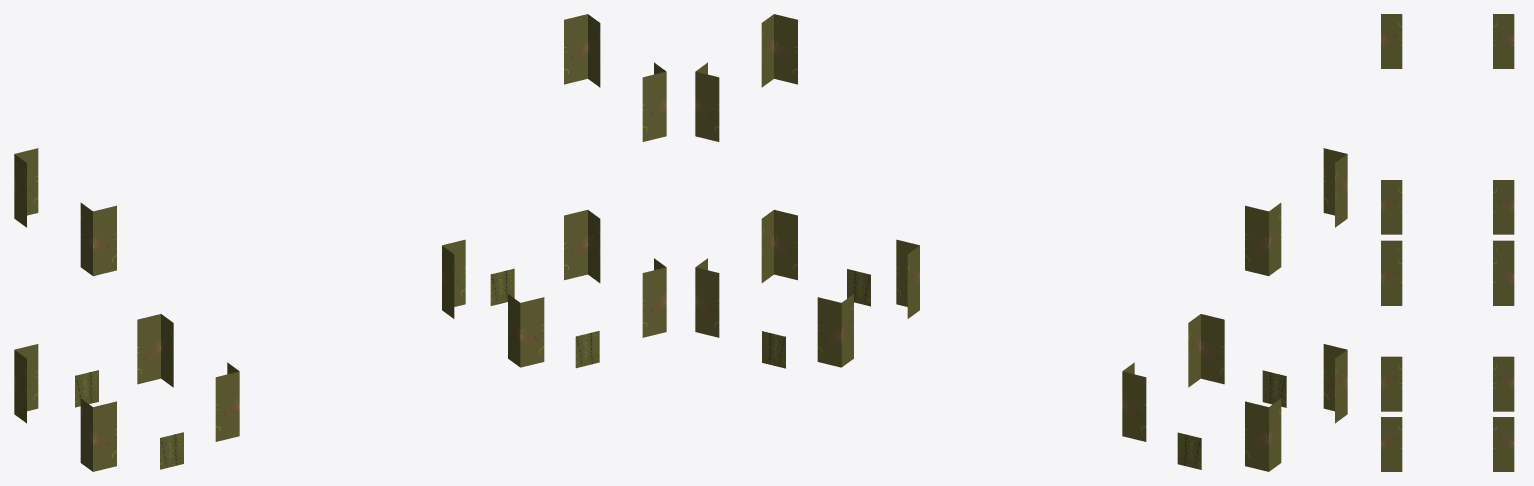
File: wall_gate_f.dae
The picture shows the model from 3 angles, left to right: view 1: azimuth 30°, elevation 25°; view 2: azimuth 150°, elevation 25°; view 3: azimuth 270°, elevation 25°; orthographic projection. The views are drawn at different scales.
Parts seen in each view (by area): view 1: wall_gate_f; view 2: wall_gate_f; view 3: wall_gate_f.
Boxes of the visible parts, x1,y1,x2,y2 form: wall_gate_f: (14,14,666,471); wall_gate_f: (695,14,1347,471); wall_gate_f: (1381,14,1514,471).
Size of the model in its own units: 8.29 by 2.12 by 3.75.
1 material, 1 textured.
